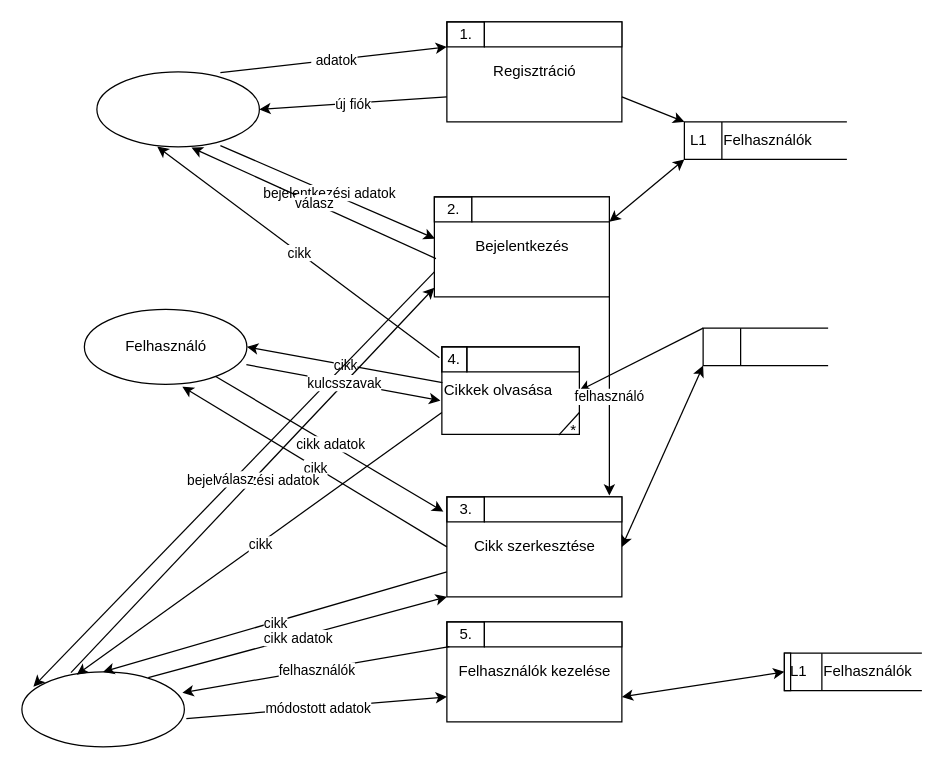
Some shapes in this 944 by 769 pixel diagram are drawn without their labels. Each missing label, with the centre of its shape:
Admin: the point at 102,709
L2 Cikkek: the point at 765,346
Látogató: the point at 177,109
